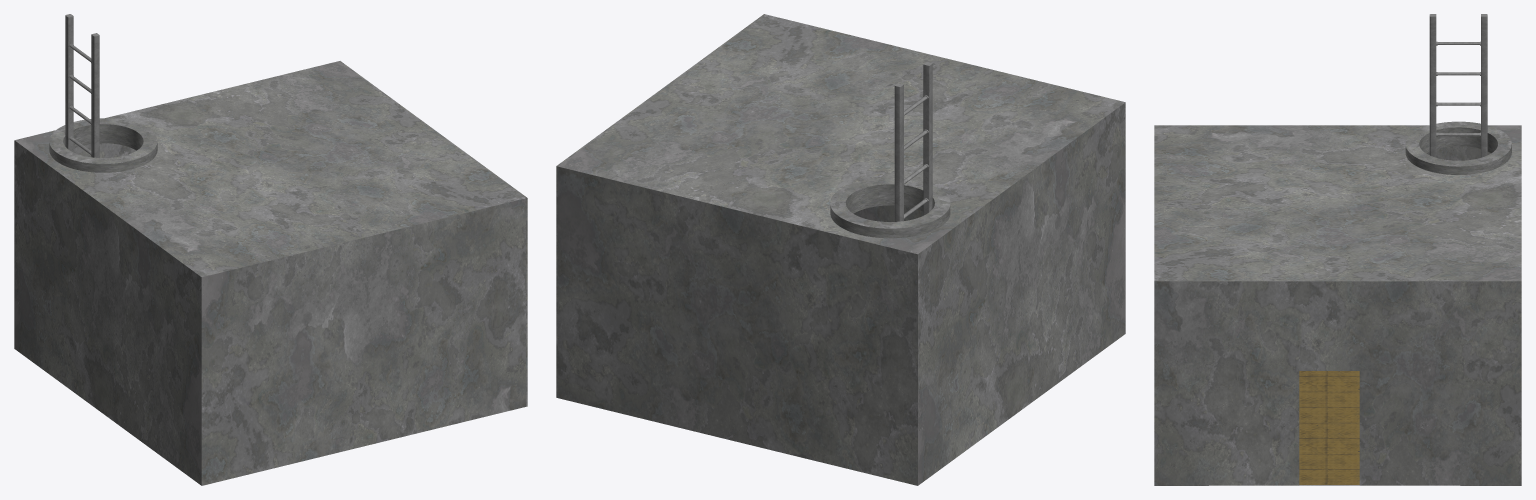
The model's file is room_hole_ceiling.obj.
The picture shows the model from 3 angles, left to right: view 1: azimuth 30°, elevation 25°; view 2: azimuth 150°, elevation 25°; view 3: azimuth 270°, elevation 25°; orthographic projection. The views are drawn at different scales.
Visible parts, largest first — view 1: Cube.010_Cube.016, krog.001_Cylinder.001, lestev.003_Cube.017; view 2: Cube.010_Cube.016, krog.001_Cylinder.001, lestev.003_Cube.017; view 3: Cube.010_Cube.016, krog.001_Cylinder.001, lestev.003_Cube.017.
Part boxes in pixels (x1=…): Cube.010_Cube.016: x1=14, y1=61, x2=527, y2=485; krog.001_Cylinder.001: x1=49, y1=118, x2=157, y2=172; lestev.003_Cube.017: x1=65, y1=14, x2=99, y2=157; Cube.010_Cube.016: x1=556, y1=14, x2=1125, y2=485; krog.001_Cylinder.001: x1=830, y1=177, x2=950, y2=238; lestev.003_Cube.017: x1=894, y1=62, x2=932, y2=221; Cube.010_Cube.016: x1=1154, y1=125, x2=1521, y2=485; krog.001_Cylinder.001: x1=1405, y1=121, x2=1511, y2=174; lestev.003_Cube.017: x1=1429, y1=14, x2=1487, y2=157.
Size of the model in its own units: 5.75 by 5.71 by 5.73.
